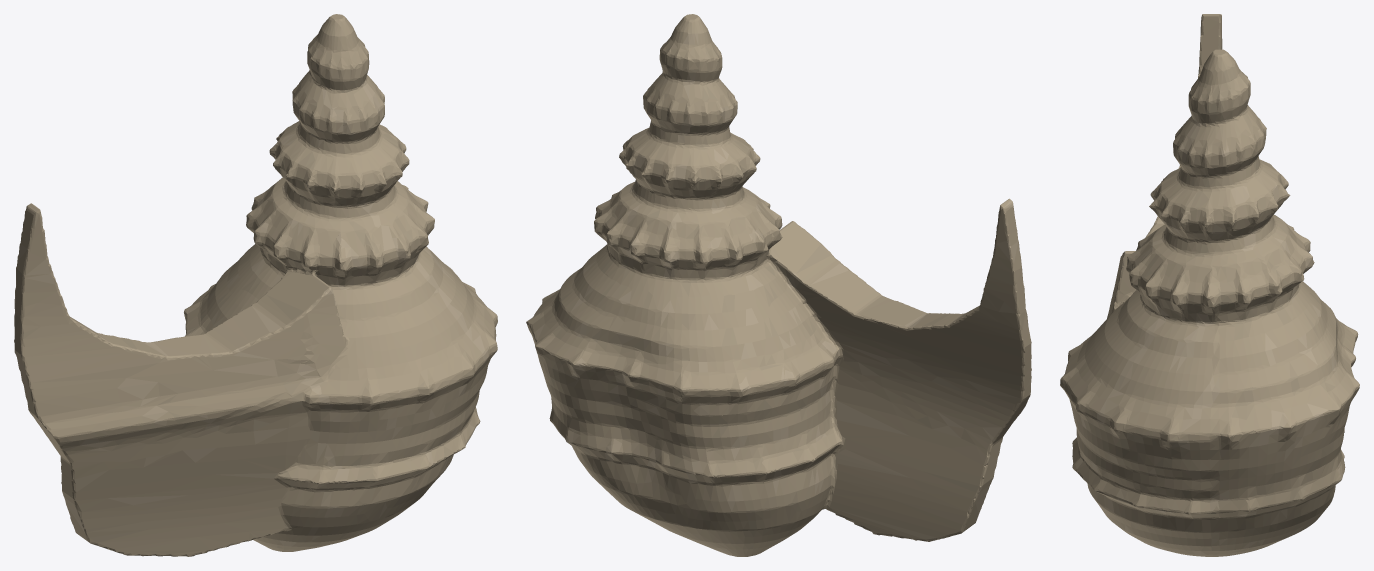
3 renders of one model, left to right at view 1: azimuth 30°, elevation 25°; view 2: azimuth 150°, elevation 25°; view 3: azimuth 270°, elevation 25°, orthographic.
Visible parts, largest first — view 1: Continuous fossil shell; view 2: Continuous fossil shell; view 3: Continuous fossil shell.
Boxes of the visible parts, x1,y1,x2,y2 form: Continuous fossil shell: [14, 14, 497, 556]; Continuous fossil shell: [526, 14, 1031, 556]; Continuous fossil shell: [1060, 14, 1359, 556].
Size of the model in its own units: 0.042 by 0.044 by 0.023.
